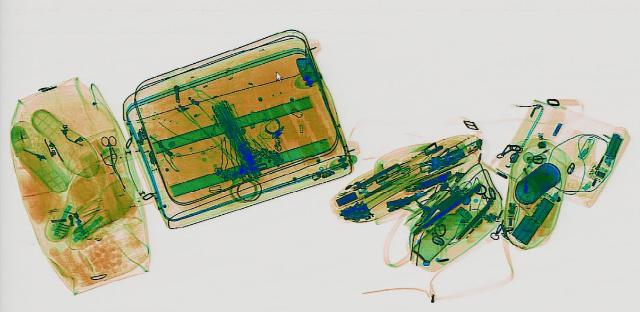Scissors: (100, 134, 120, 162)
